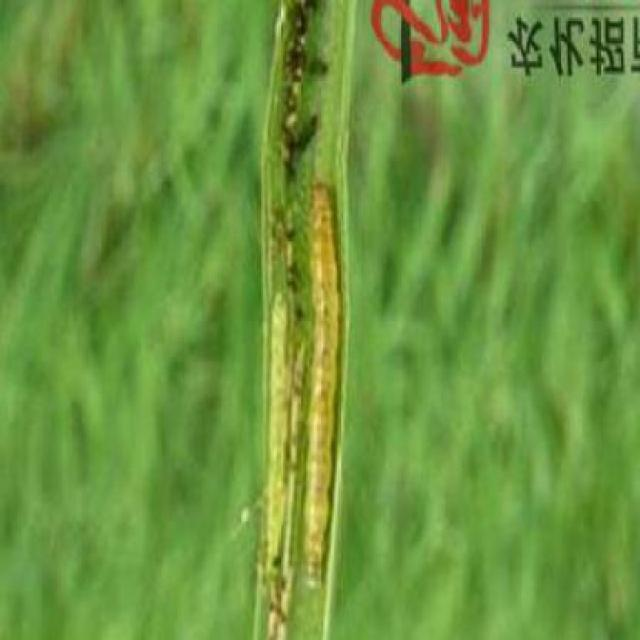leaf-folder: (281, 159, 344, 578)
